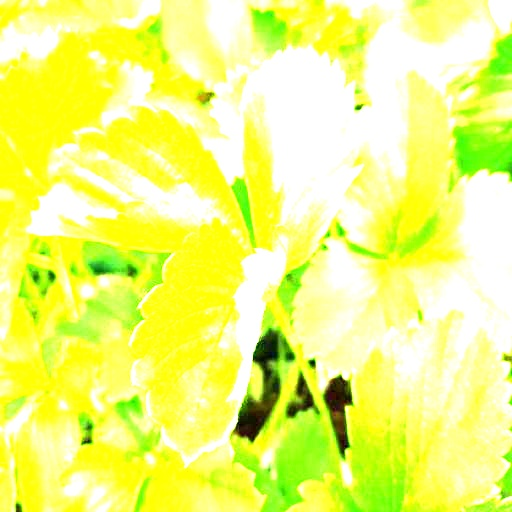Powdery Mildew Leaf: (126, 215, 290, 468)
